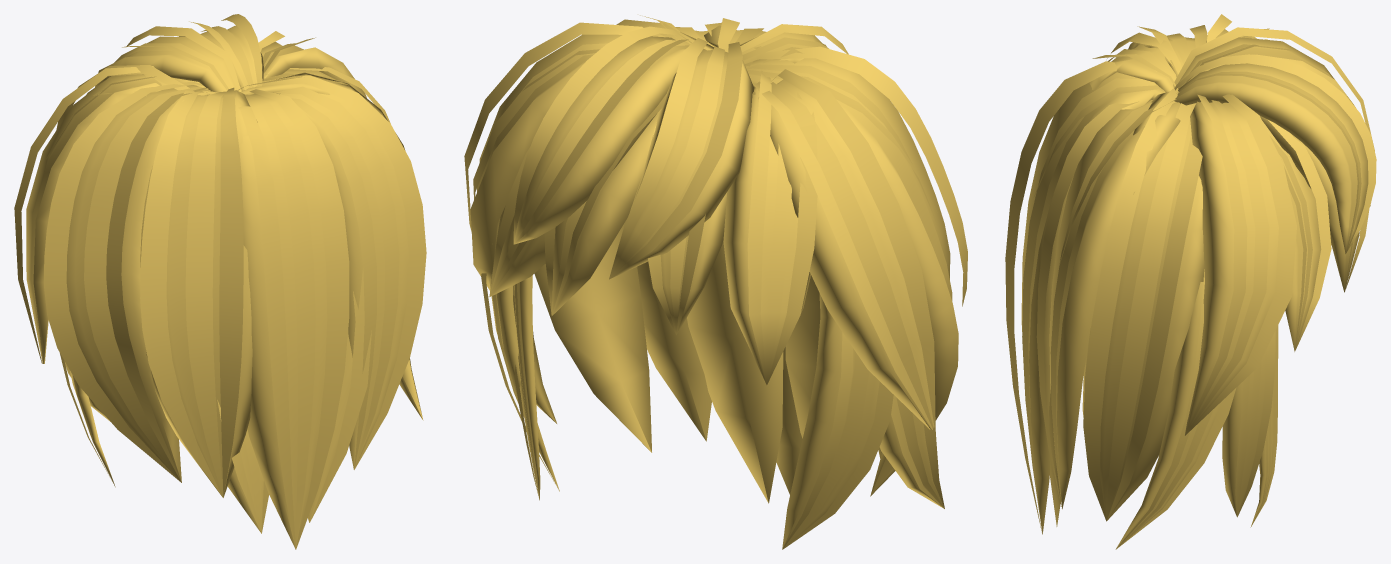
The model's file is shanghai_hair.glb.
3 renders of one model, left to right at view 1: azimuth 30°, elevation 25°; view 2: azimuth 150°, elevation 25°; view 3: azimuth 270°, elevation 25°, orthographic. The views are drawn at different scales.
Parts seen in each view (by area): view 1: shanghai_hair; view 2: shanghai_hair; view 3: shanghai_hair.
Part boxes in pixels (bbox=[...]): shanghai_hair: bbox=[14, 14, 426, 549]; shanghai_hair: bbox=[464, 15, 967, 549]; shanghai_hair: bbox=[1005, 14, 1376, 549].
Size of the model in its own units: 2 by 2.28 by 1.57.
